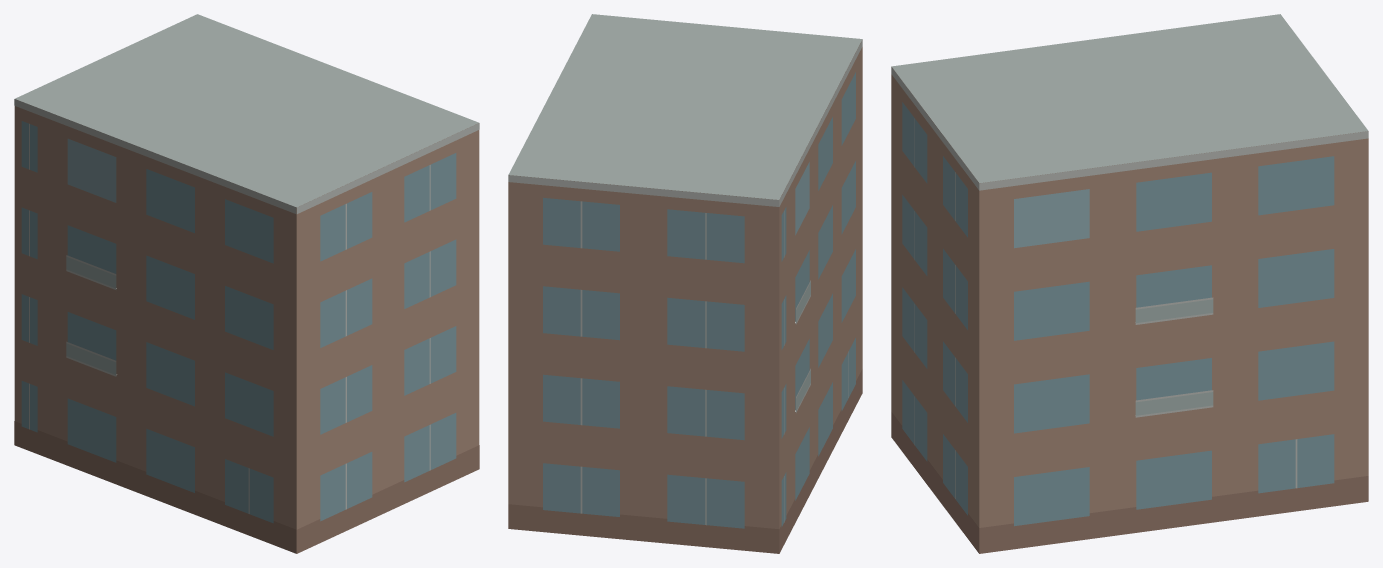
File: residential-da6b8cc3-8aa4-419c-b663-b49773f90d74.glb
3 renders of one model, left to right at view 1: azimuth 30°, elevation 25°; view 2: azimuth 150°, elevation 25°; view 3: azimuth 270°, elevation 25°, orthographic. The views are drawn at different scales.
Parts seen in each view (by area): view 1: residential-da6b8cc3-8aa4-419c-b663-b49773f90d74.tmp; view 2: residential-da6b8cc3-8aa4-419c-b663-b49773f90d74.tmp; view 3: residential-da6b8cc3-8aa4-419c-b663-b49773f90d74.tmp.
Boxes of the visible parts, x1,y1,x2,y2 form: residential-da6b8cc3-8aa4-419c-b663-b49773f90d74.tmp: (14,14,479,553); residential-da6b8cc3-8aa4-419c-b663-b49773f90d74.tmp: (508,14,862,553); residential-da6b8cc3-8aa4-419c-b663-b49773f90d74.tmp: (891,14,1368,553).
Size of the model in its own units: 11.96 by 12.2 by 14.25.
